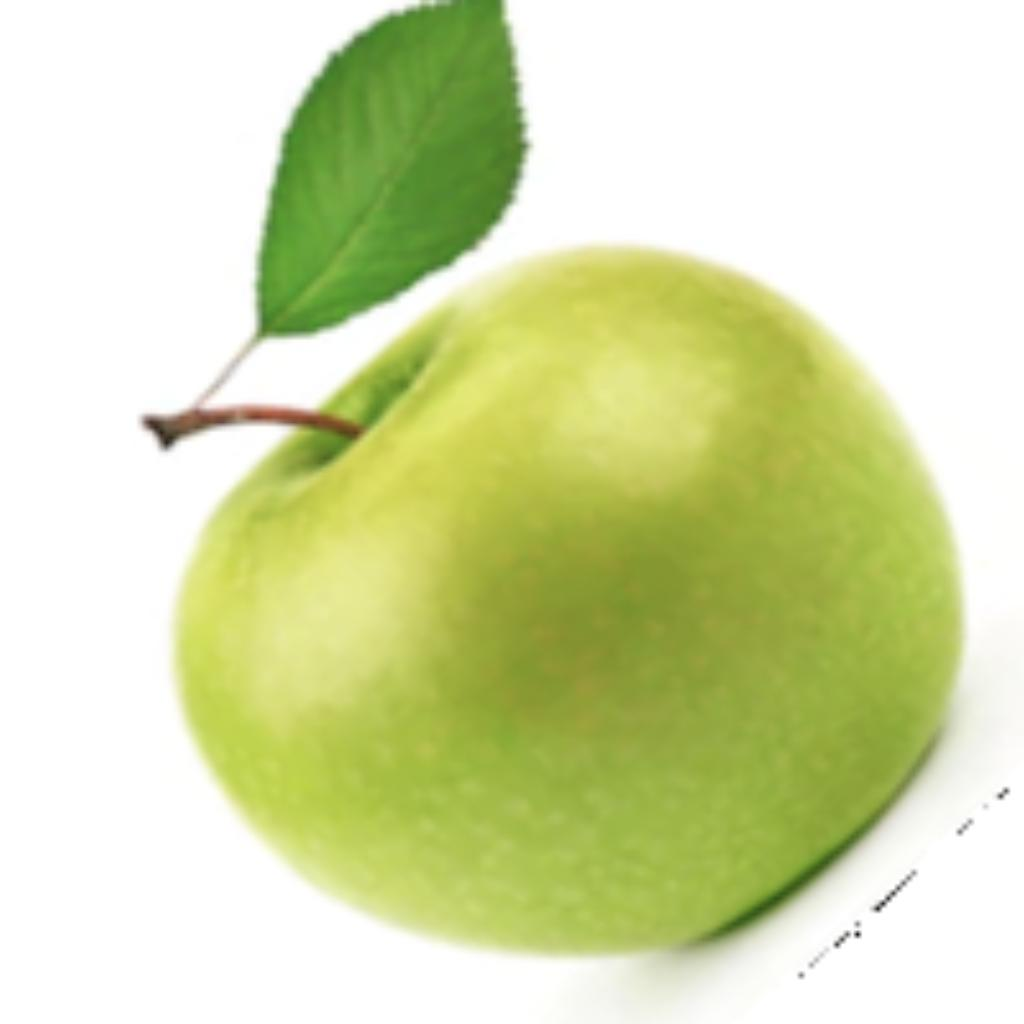apple: (133, 0, 993, 1014)
